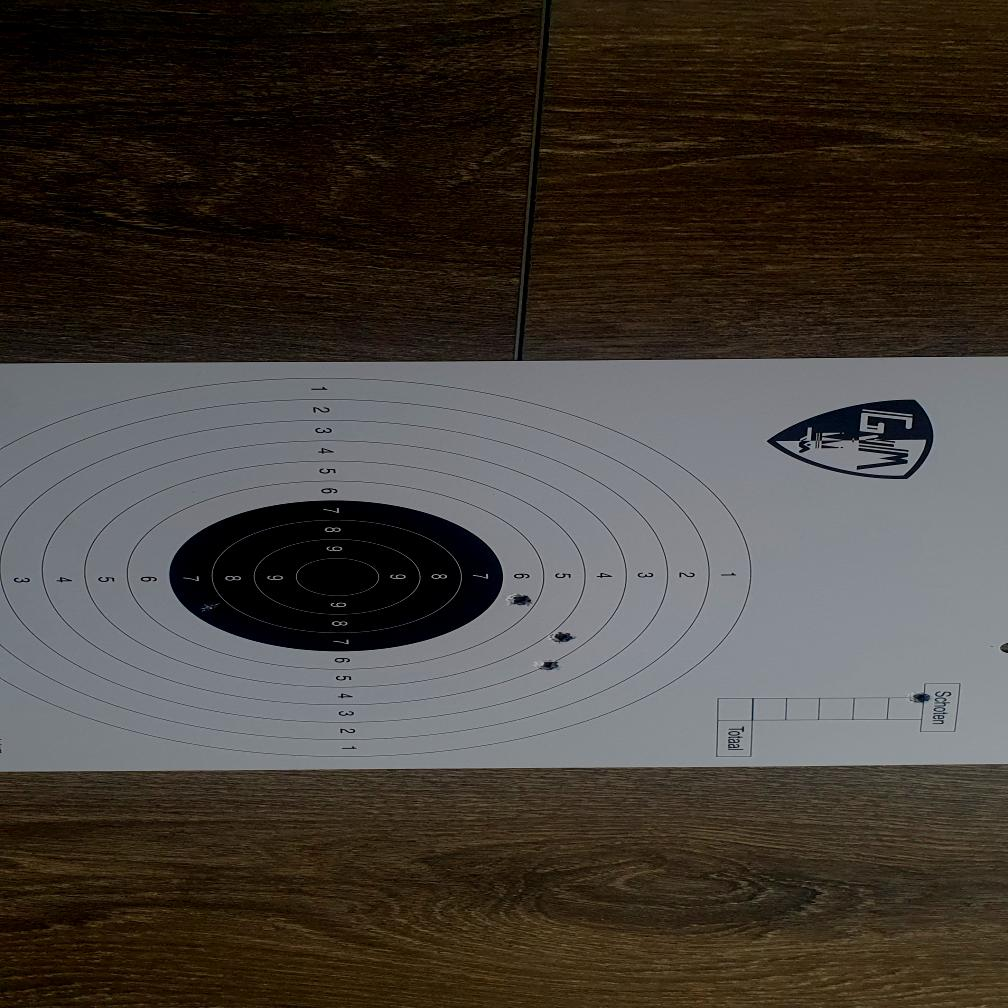0: (904, 692, 939, 704)
4: (547, 630, 576, 646), (534, 660, 561, 673)
6: (506, 594, 536, 609)
7: (198, 602, 228, 615)
Target: (0, 378, 749, 761)
black_contour: (166, 499, 501, 655)
